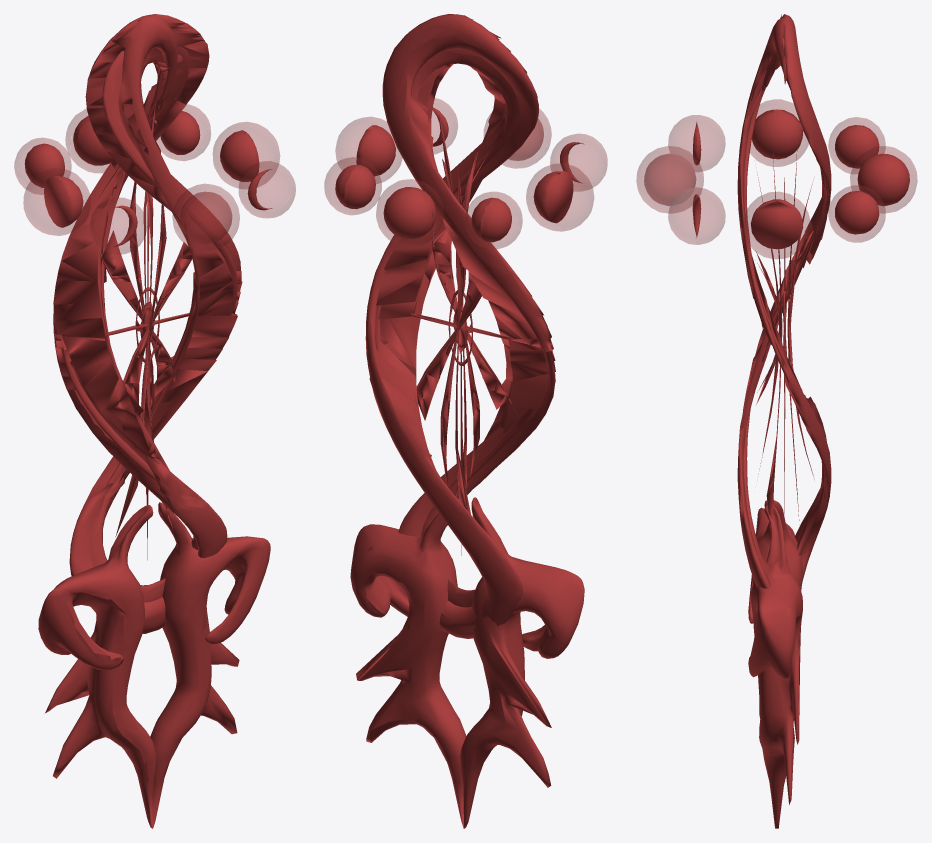
File: ciclika_rojo.gltf
3 views of the same model, side by side, from view 1: azimuth 30°, elevation 25°; view 2: azimuth 150°, elevation 25°; view 3: azimuth 270°, elevation 25° (orthographic).
Visible parts, largest first — view 1: Torus.002; view 2: Torus.002; view 3: Torus.002.
Part boxes in pixels (bbox=[...]): Torus.002: bbox=[14, 14, 295, 828]; Torus.002: bbox=[324, 14, 607, 828]; Torus.002: bbox=[636, 14, 917, 828].
Bounding box in the file's own units: 0.2885 × 0.9 × 0.2833.
